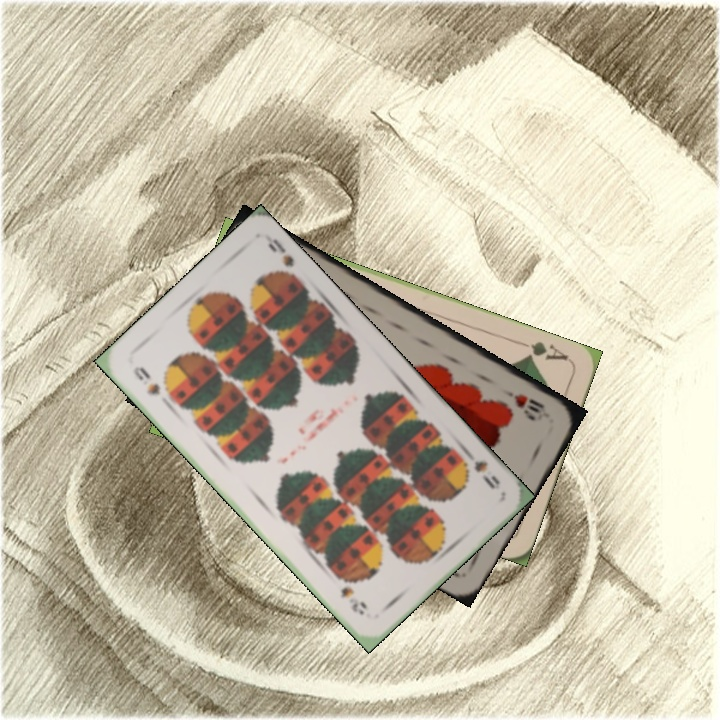GA: (514, 337, 571, 364)
H10: (499, 385, 547, 416)
S9: (459, 444, 503, 492), (129, 362, 163, 398)
